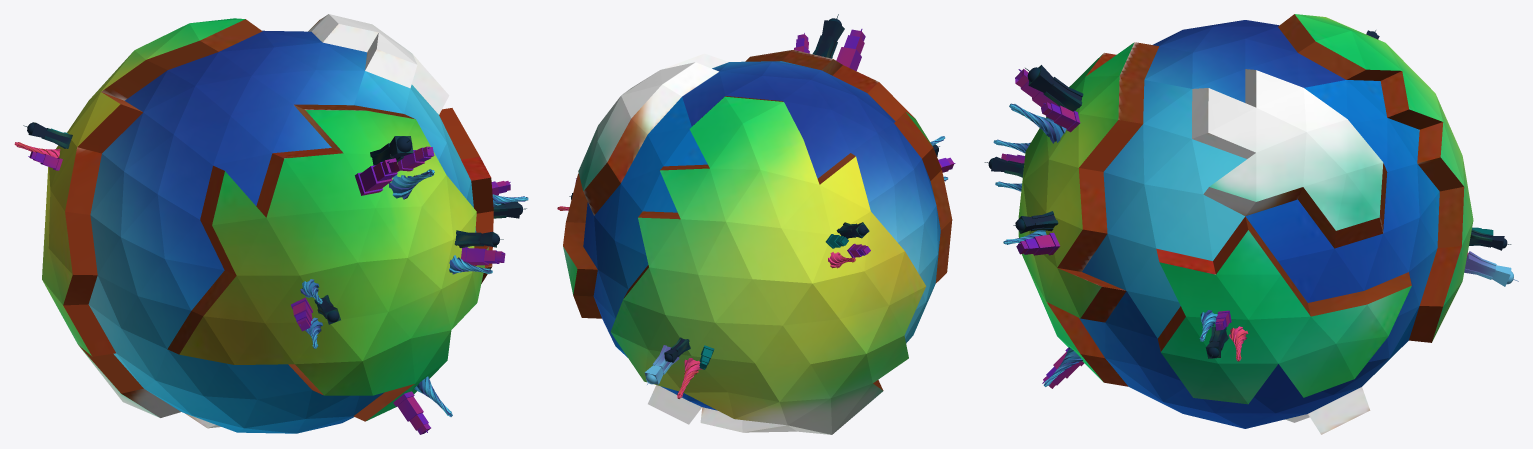
File: world_2_lowpoly.fbx
The picture shows the model from 3 angles, left to right: view 1: azimuth 30°, elevation 25°; view 2: azimuth 150°, elevation 25°; view 3: azimuth 270°, elevation 25°; orthographic projection. The views are drawn at different scales.
Parts seen in each view (by area): view 1: terra, Box004, Box010, Box003, Box008, Box011, Cylinder001, Box009, Box014, Box012; view 2: terra, Box003, Box004, Box021, Cylinder008, Box009; view 3: terra, Box003, Box021, Box008, Cylinder001, Box014, Box011, Box004, Box005.
Boxes of the visible parts, <box> form: terra: <box>42,14,493,433</box>; Box004: <box>355,158,399,195</box>; Box010: <box>393,391,430,434</box>; Box003: <box>370,136,413,165</box>; Box008: <box>461,247,505,265</box>; Box011: <box>454,230,503,247</box>; Cylinder001: <box>389,169,434,199</box>; Box009: <box>23,122,72,148</box>; Box014: <box>397,146,434,171</box>; Box012: <box>291,297,312,331</box>; terra: <box>563,50,952,434</box>; Box003: <box>812,14,844,58</box>; Box004: <box>836,29,865,71</box>; Box021: <box>644,345,679,384</box>; Cylinder008: <box>677,358,702,398</box>; Box009: <box>836,222,869,238</box>; terra: <box>1018,14,1473,434</box>; Box003: <box>1025,65,1083,111</box>; Box021: <box>1464,251,1518,286</box>; Box008: <box>1016,232,1059,255</box>; Cylinder001: <box>1009,103,1066,143</box>; Box014: <box>1041,102,1080,132</box>; Box011: <box>1013,211,1058,233</box>; Box004: <box>1015,69,1058,106</box>; Box005: <box>1469,229,1511,250</box>.
Bounding box in the file's own units: 454 × 386 × 494.
3 materials, 3 textured.
